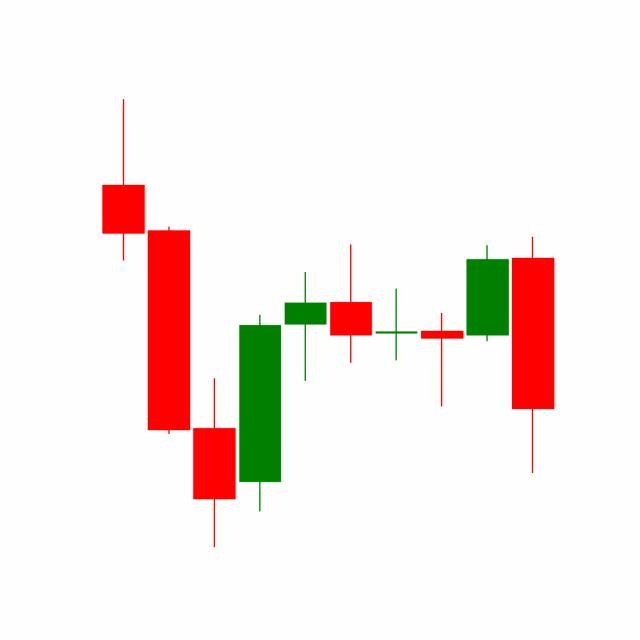Hikkake Pattern: (283, 243, 512, 409)
